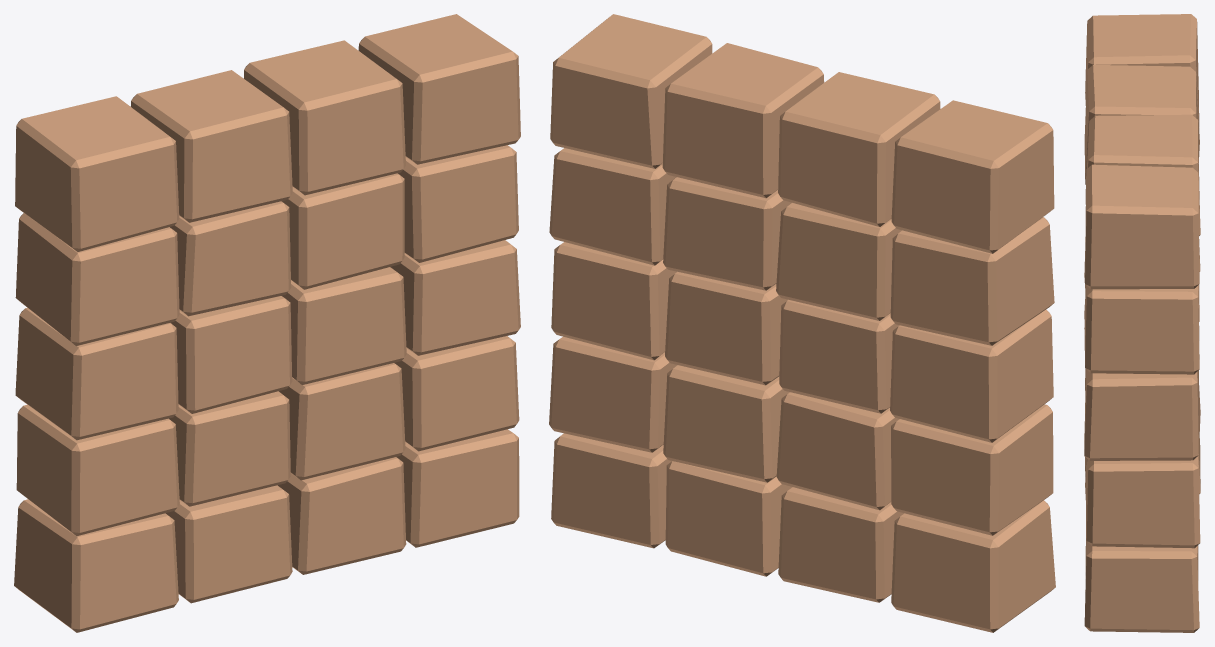
The model's file is wall_mud_brick_half_built.glb.
The picture shows the model from 3 angles, left to right: view 1: azimuth 30°, elevation 25°; view 2: azimuth 150°, elevation 25°; view 3: azimuth 270°, elevation 25°; orthographic projection. The views are drawn at different scales.
Visible parts, largest first — view 1: wall_mud_brick_half_built; view 2: wall_mud_brick_half_built; view 3: wall_mud_brick_half_built.
Part boxes in pixels (bbox=[...]): wall_mud_brick_half_built: bbox=[14, 14, 520, 632]; wall_mud_brick_half_built: bbox=[549, 14, 1055, 632]; wall_mud_brick_half_built: bbox=[1084, 14, 1200, 632].
Bounding box in the file's own units: 0.993 × 0.9972 × 0.2459.
